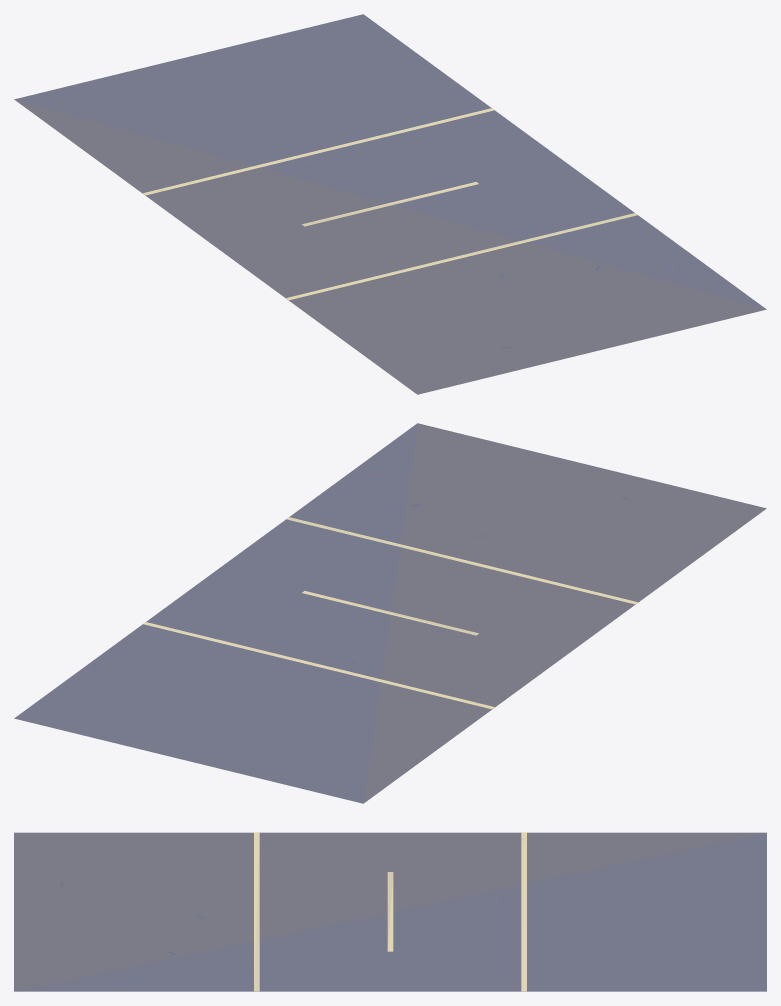
The model's file is HK_RoadSurf_Straight.lod.glb.
3 views of the same model, one above another, from view 1: azimuth 30°, elevation 25°; view 2: azimuth 150°, elevation 25°; view 3: azimuth 270°, elevation 25° (orthographic). The views are drawn at different scales.
Visible parts, largest first — view 1: HK_RoadSurf_Straight; view 2: HK_RoadSurf_Straight; view 3: HK_RoadSurf_Straight.
Part boxes in pixels (x1=…): HK_RoadSurf_Straight: x1=14, y1=14, x2=766, y2=394; HK_RoadSurf_Straight: x1=14, y1=423, x2=766, y2=803; HK_RoadSurf_Straight: x1=14, y1=832, x2=766, y2=991.
Bounding box in the file's own units: 10 × 0.0135 × 20.
